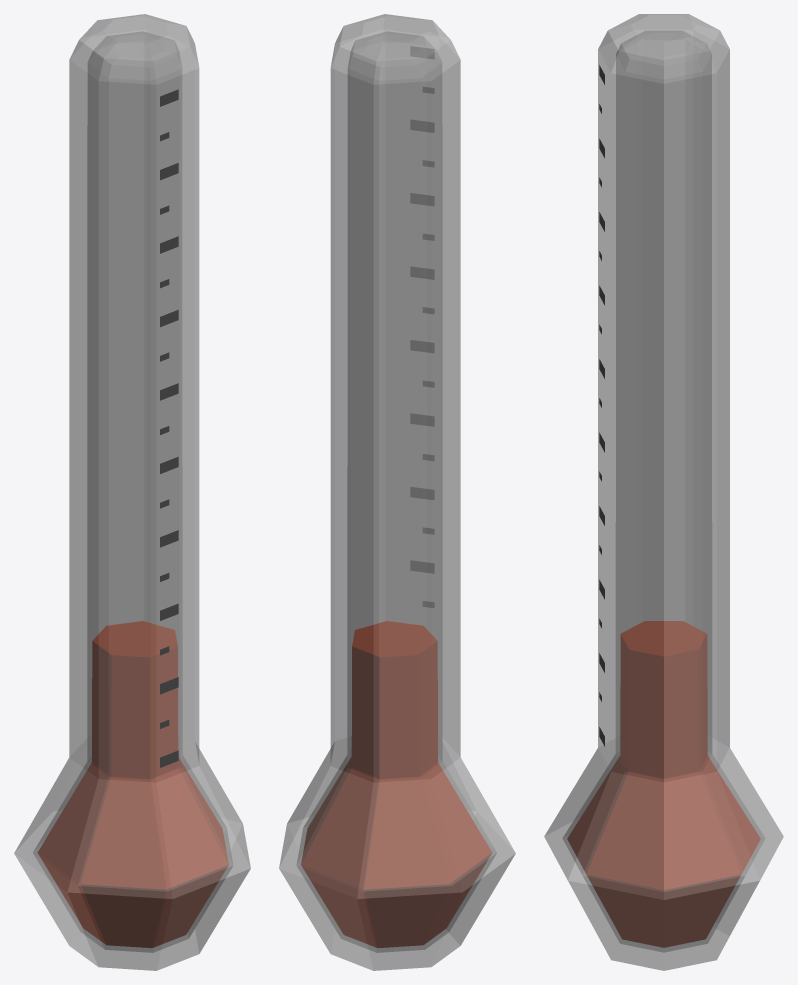
Rendered from Thermometer.fbx.
3 renders of one model, left to right at view 1: azimuth 30°, elevation 25°; view 2: azimuth 150°, elevation 25°; view 3: azimuth 270°, elevation 25°, orthographic.
Parts seen in each view (by area): view 1: Glass1, Juice_Base, Juice_Moving; view 2: Glass1, Juice_Base, Juice_Moving; view 3: Glass1, Juice_Base, Juice_Moving.
Part boxes in pixels (x1,y1,x2,y2): Glass1: [14, 14, 250, 970]; Juice_Base: [38, 758, 228, 947]; Juice_Moving: [92, 621, 177, 778]; Glass1: [279, 14, 515, 970]; Juice_Base: [301, 757, 491, 947]; Juice_Moving: [352, 621, 437, 778]; Glass1: [544, 14, 783, 970]; Juice_Base: [567, 756, 760, 947]; Juice_Moving: [620, 621, 707, 777].
Size of the model in its own units: 4.82 by 20.79 by 4.94.
